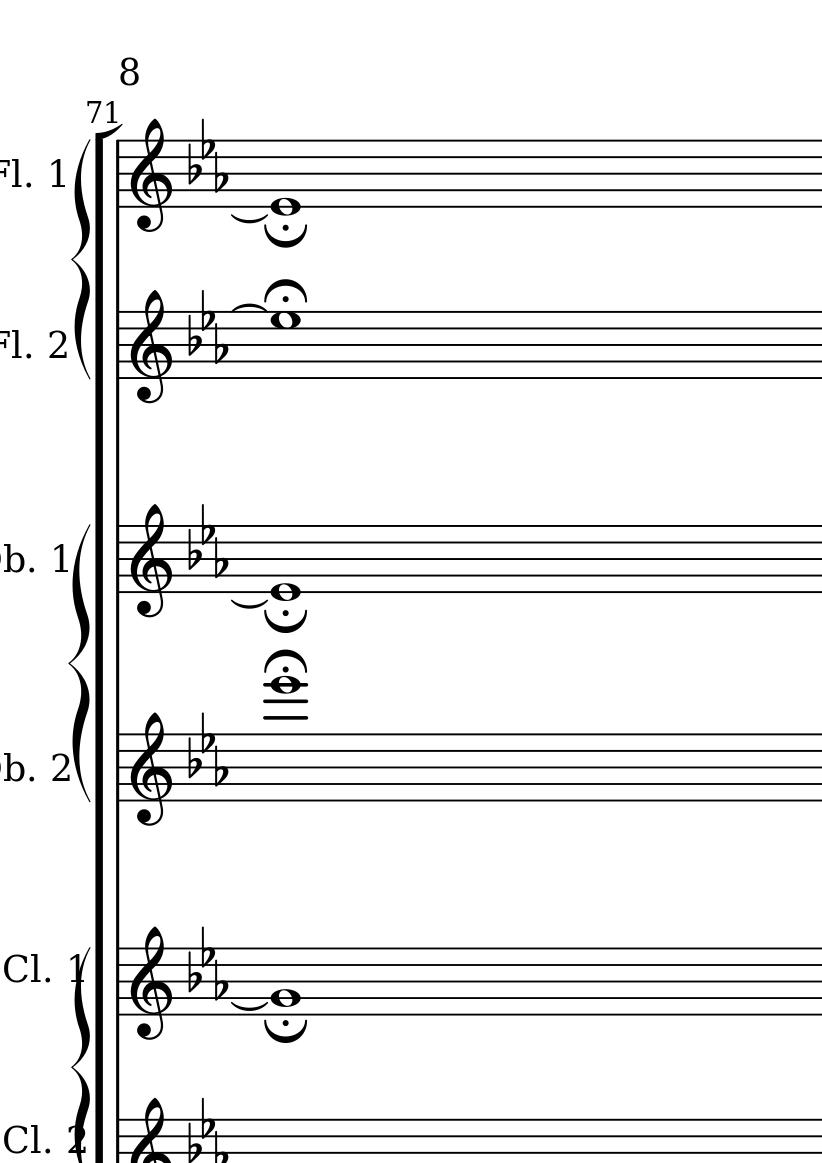1: (104, 98, 119, 125)
1_0: (268, 138, 304, 218), (268, 523, 304, 603)
1_14: (262, 676, 309, 805)
1_2: (268, 945, 304, 1016)
1_7: (268, 312, 303, 381)
7: (86, 97, 103, 126)
8: (119, 53, 141, 87)
Brace: (69, 519, 91, 804), (69, 137, 94, 378)
Cl: (5, 952, 42, 983), (3, 1123, 40, 1154)
E_F: (185, 114, 231, 196), (185, 500, 230, 580), (185, 708, 230, 788), (185, 924, 231, 1001), (184, 288, 230, 364), (185, 1094, 230, 1163)
Fermata_above: (262, 279, 315, 307), (259, 606, 310, 635), (261, 648, 311, 677), (262, 1017, 312, 1043), (264, 222, 312, 248)
Gclef: (129, 116, 174, 234), (129, 289, 174, 406), (129, 711, 174, 828), (129, 503, 174, 619), (129, 926, 174, 1041)
Single_barline: (111, 140, 128, 210), (110, 527, 127, 593), (110, 949, 127, 1014), (110, 735, 126, 802), (110, 312, 126, 378)
Slur: (229, 297, 273, 313), (230, 997, 269, 1013), (231, 210, 270, 224), (229, 598, 270, 609)
